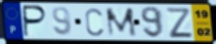9: (140, 6, 165, 40), (50, 6, 73, 37)
C: (84, 6, 105, 37)
M: (104, 7, 139, 38)
P: (23, 4, 49, 38)
Z: (165, 7, 195, 39)
